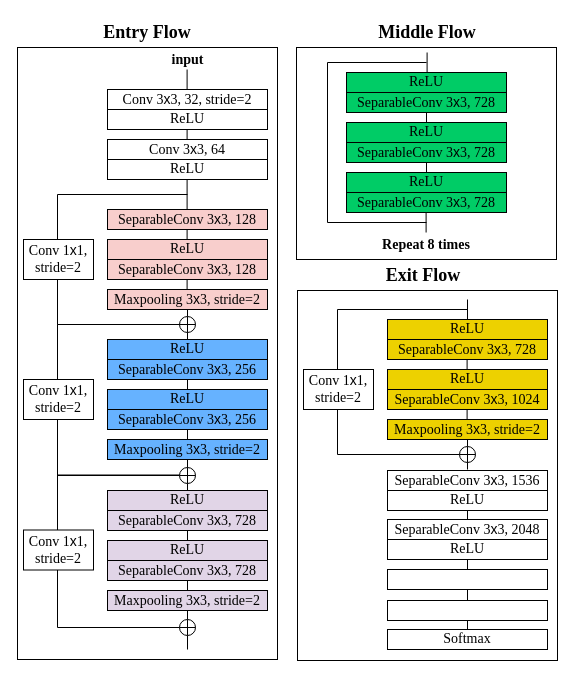
Some shapes in this 575 by 678 pixel diagram are drawn without their labels. The centre of each missing label's shape, as x and y in pixels:
"FC" belongs at (x=467, y=610).
"GlobalAveragePooling" belongs at (x=467, y=579).
